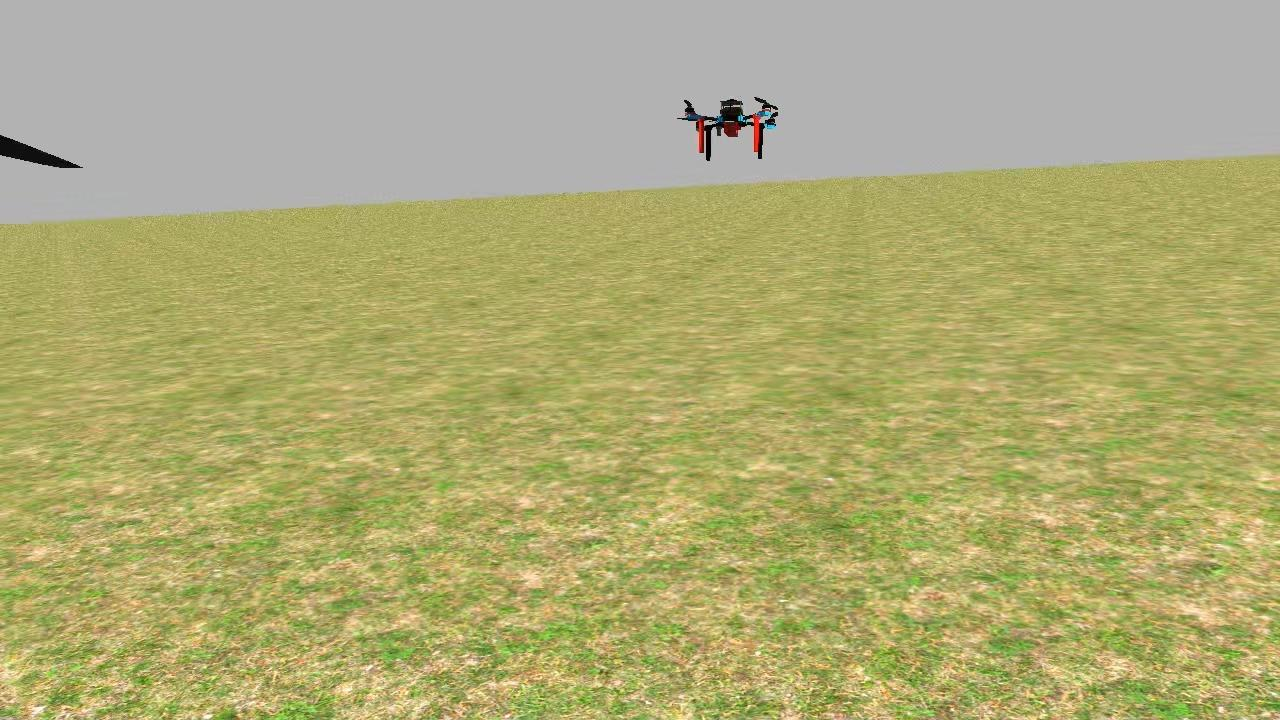UAV: (665, 81, 799, 171)
